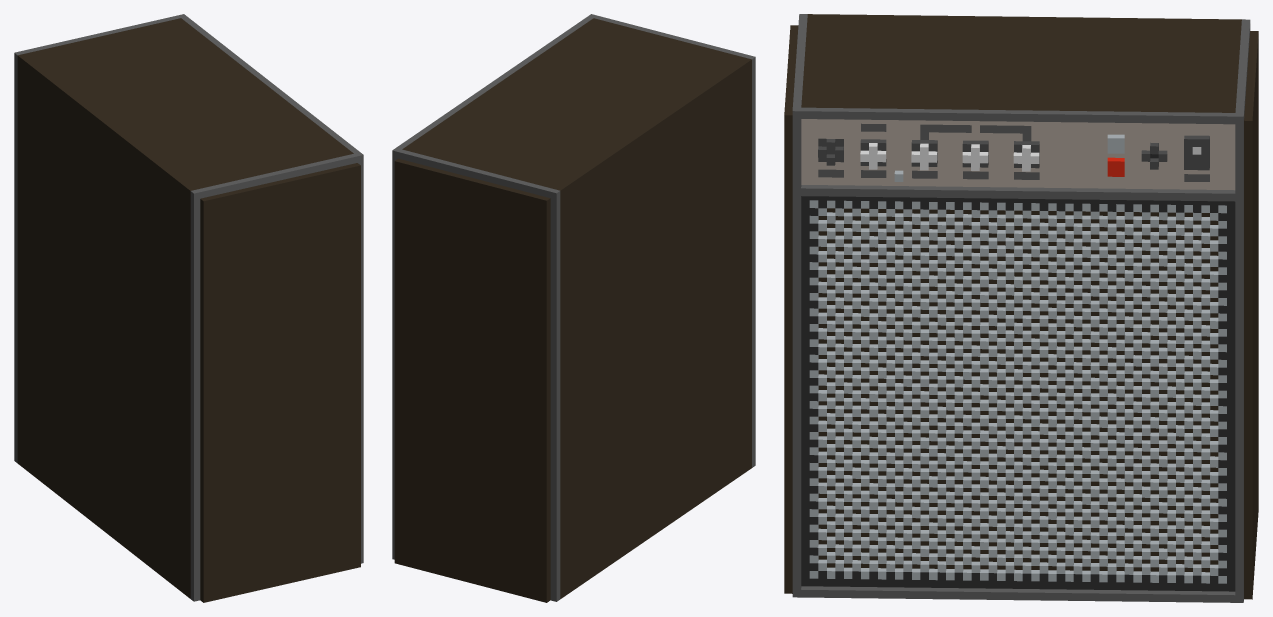
Rendered from bigspeaker_0_lev1_lev3.glb.
The picture shows the model from 3 angles, left to right: view 1: azimuth 30°, elevation 25°; view 2: azimuth 150°, elevation 25°; view 3: azimuth 270°, elevation 25°; orthographic projection. The views are drawn at different scales.
Parts seen in each view (by area): view 1: bigspeaker_0_lev1_lev3; view 2: bigspeaker_0_lev1_lev3; view 3: bigspeaker_0_lev1_lev3.
Part boxes in pixels (<box>): bigspeaker_0_lev1_lev3: <box>14,14,363,602</box>; bigspeaker_0_lev1_lev3: <box>392,14,755,602</box>; bigspeaker_0_lev1_lev3: <box>784,14,1258,602</box>.
Size of the model in its own units: 0.9836 by 2.15 by 1.9.
1 material, 1 textured.
